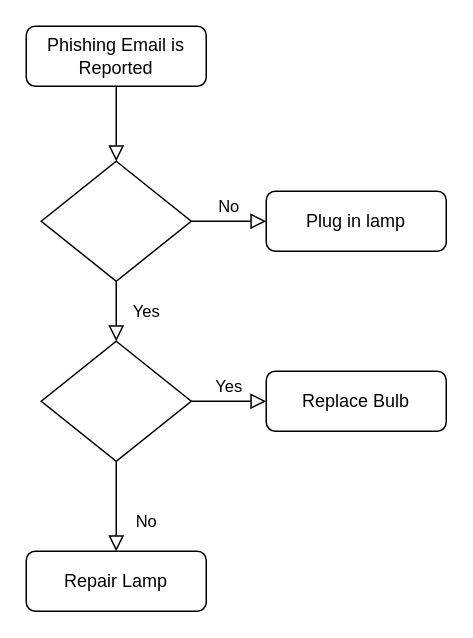
This 473x638 diagram has some shape labels left out. Each missing label, with the centre of its shape:
"Bulb burned out?" belongs at point 115,400.
"Lamp plugged in?" belongs at point 115,220.
